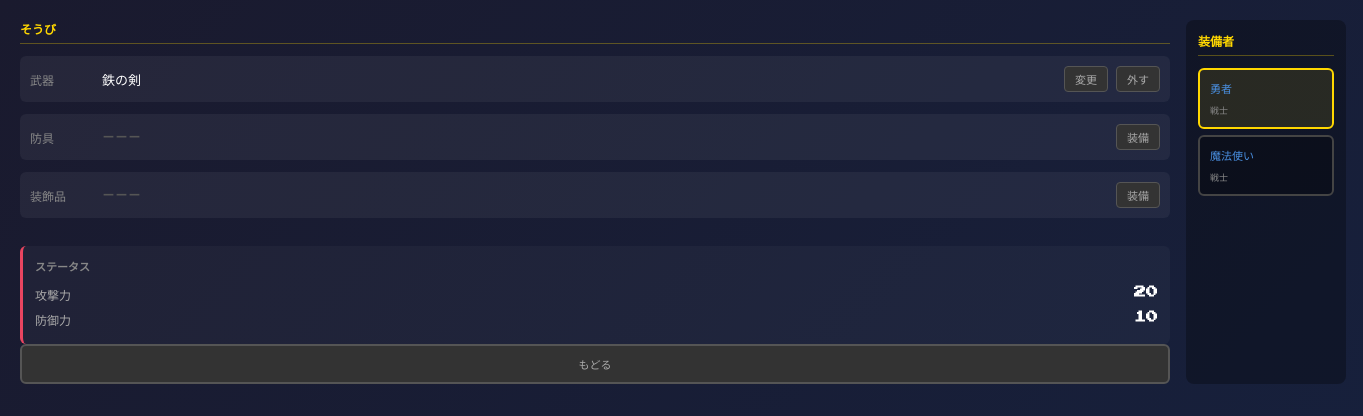
EquipmentPanel › 装備変更 › 「変更」をクリックすると装備選択ビューに切り替わる
This screenshot has width=1363, height=416.
Click the button "変更" at (1086, 79), box [1064,66,1108,92]
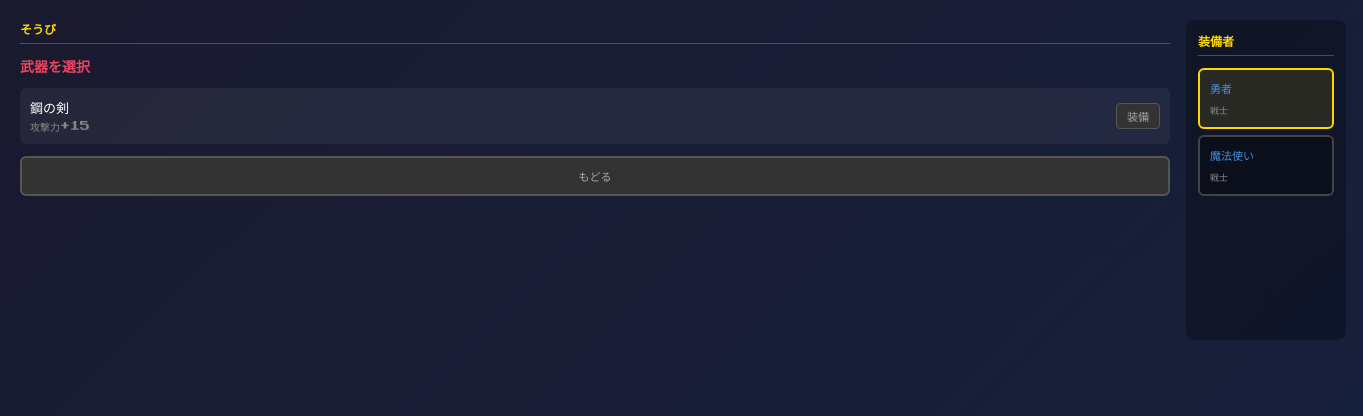
expect the heading "武器を選択" is shown: met, box [20,58,90,72]
